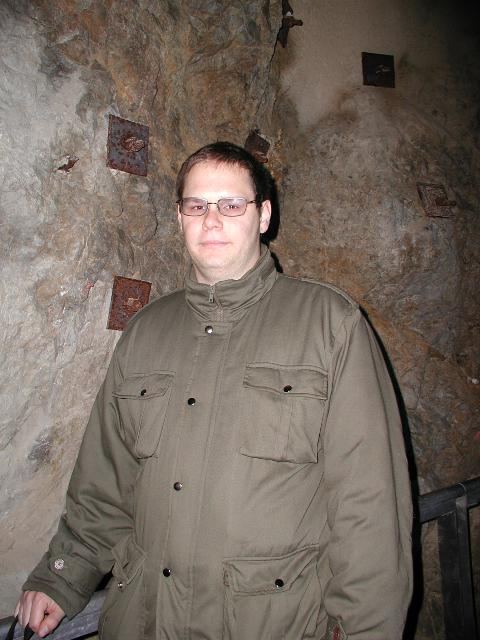Person: (12, 142, 420, 640)
